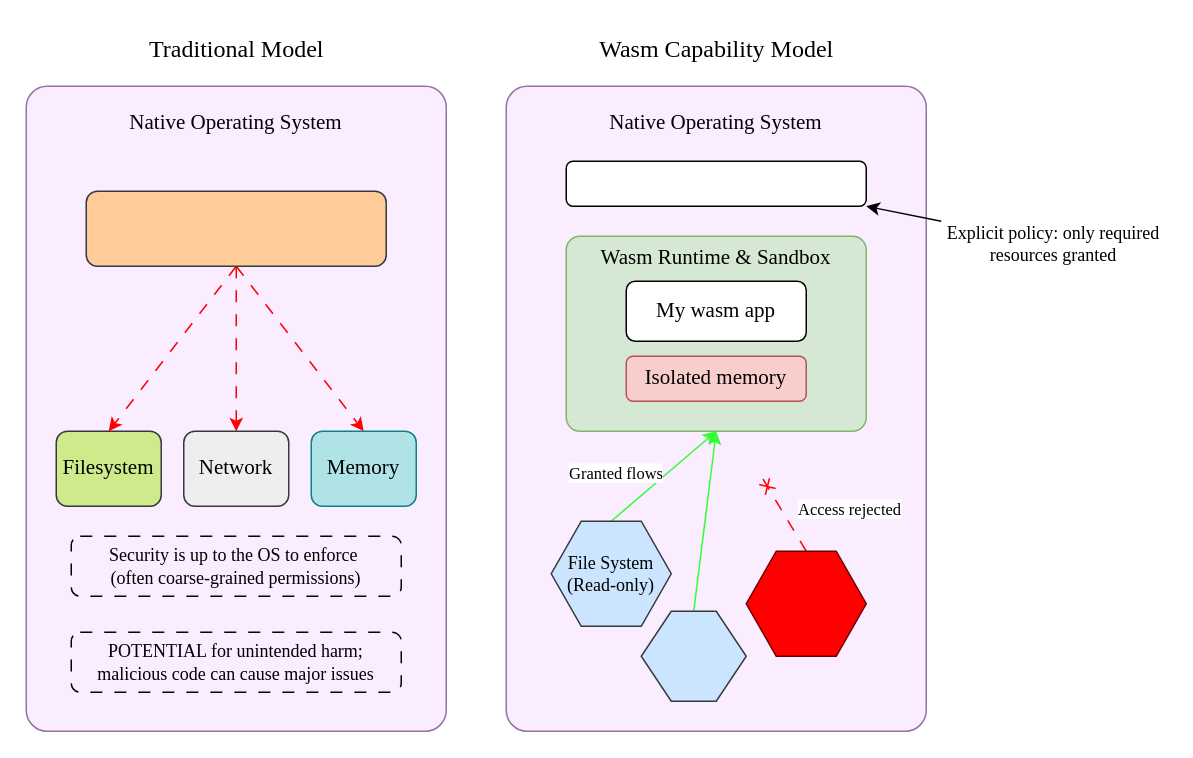
The diagram is 1193 pixels wide and 758 high, and some of its shapes have lost their labels. Here are the shapes that lost their labels. From the top down, the box of each, then its label:
(565, 160, 866, 206): Host Policy & Wasm API
(85, 190, 386, 266): Convetional Executable
(745, 550, 866, 656): Process (Denied)
(640, 610, 746, 701): Networks (Host)
